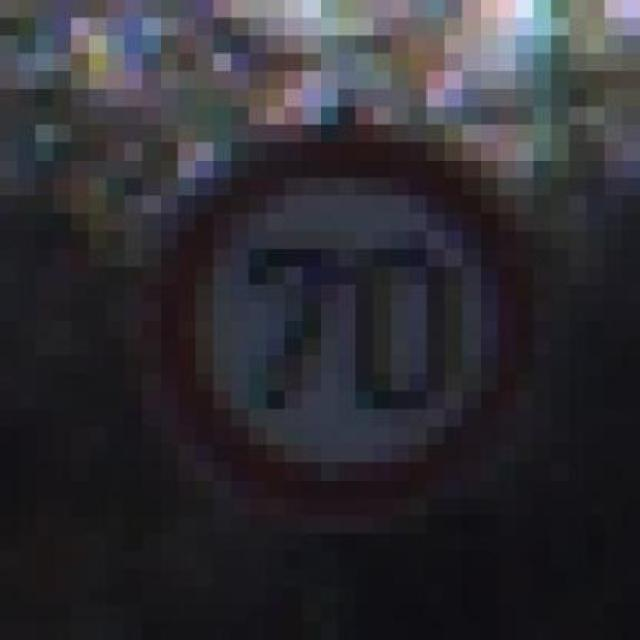forb_speed_over_70: (172, 133, 517, 505)
